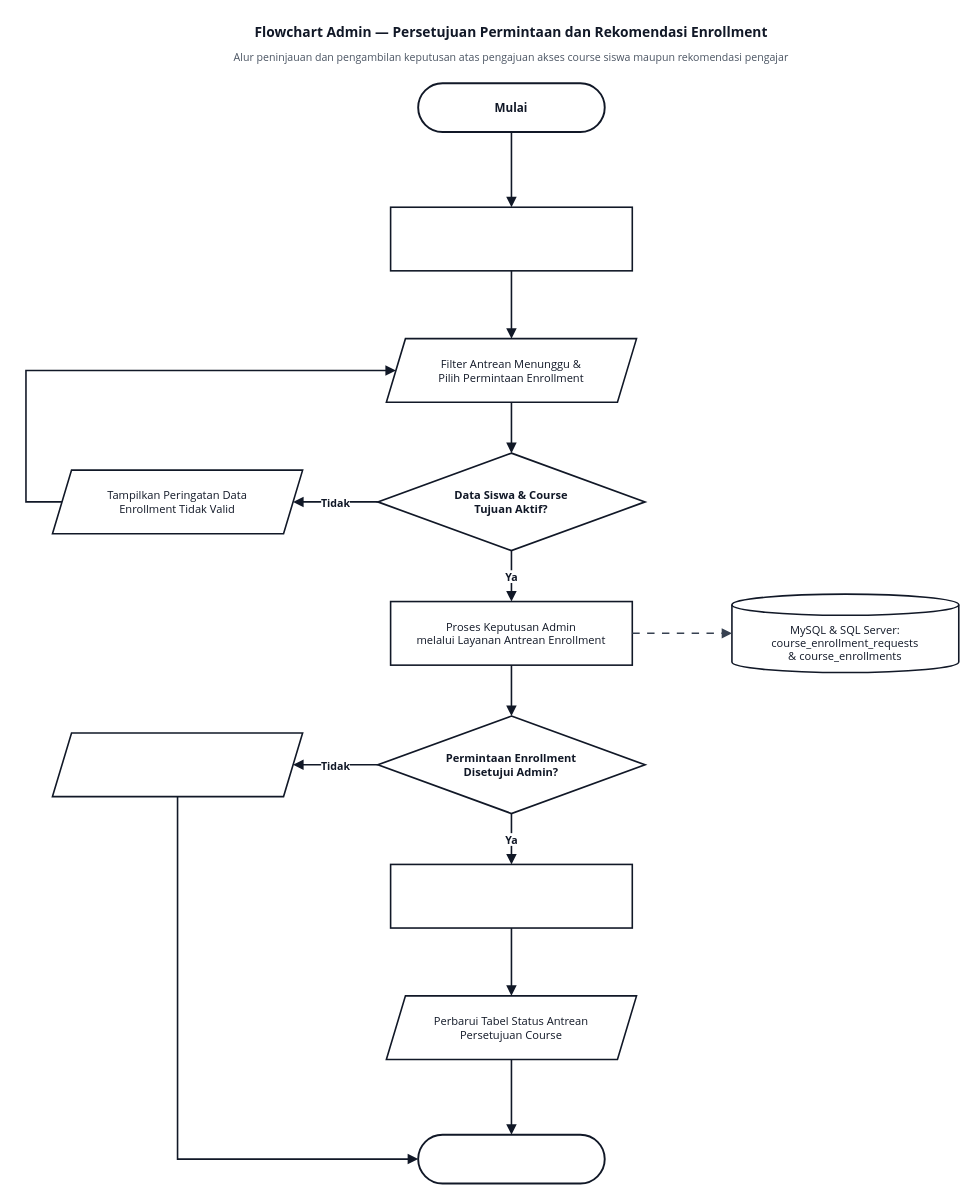
This 978x1202 diagram has some shape labels left out. The centre of each missing label's shape, as x and y in pixels:
"Aktifkan Akses Course Siswa & Kirim Notifikasi Persetujuan" belongs at point 511,895.
"Buka Menu Persetujuan Course pada Sidebar Admin" belongs at point 511,238.
"Catat Status Ditolak (Rejected) & Kirim Notifikasi Penolakan" belongs at point 177,764.
"Selesai" belongs at point 511,1158.
